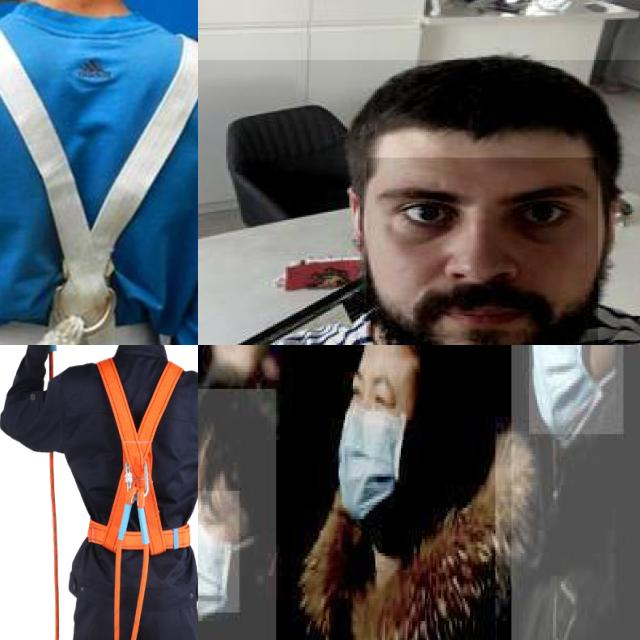Harness: (0, 0, 198, 345), (82, 345, 196, 629)
No_Ear-Protection: (345, 185, 380, 253)
No_Glasses: (375, 180, 599, 254)
face_mask: (336, 361, 412, 516), (529, 345, 625, 436), (198, 490, 239, 612)
face_nomask: (366, 157, 600, 345)
head_nohelmet: (347, 81, 622, 161), (354, 345, 436, 360)
person: (198, 59, 640, 345), (281, 345, 497, 640), (511, 345, 640, 640), (198, 388, 278, 640)
